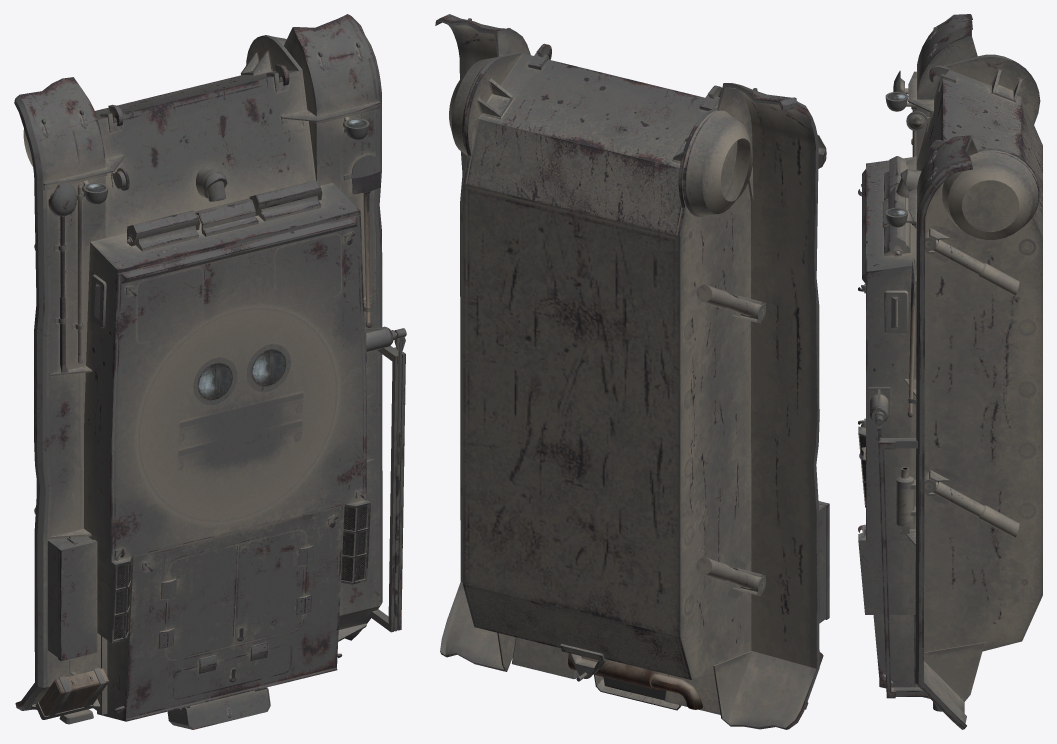
The model's file is Hull.glb.
3 views of the same model, side by side, from view 1: azimuth 30°, elevation 25°; view 2: azimuth 150°, elevation 25°; view 3: azimuth 270°, elevation 25° (orthographic). The views are drawn at different scales.
Visible parts, largest first — view 1: set_0_group_0; view 2: set_0_group_0; view 3: set_0_group_0.
Part boxes in pixels (x1=…): set_0_group_0: x1=14, y1=14, x2=406, y2=729; set_0_group_0: x1=435, y1=14, x2=829, y2=729; set_0_group_0: x1=858, y1=14, x2=1042, y2=729.
Size of the model in its own units: 2.38 by 4.25 by 1.2.
1 material, 1 textured.
